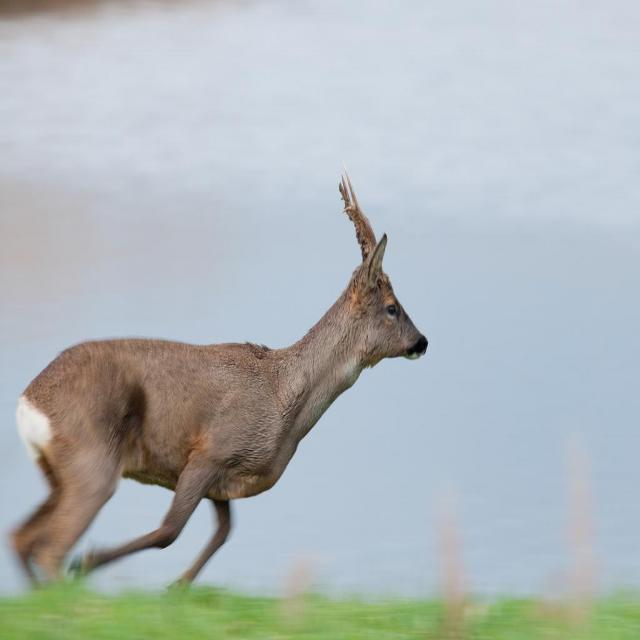Deer: (9, 165, 427, 592)
